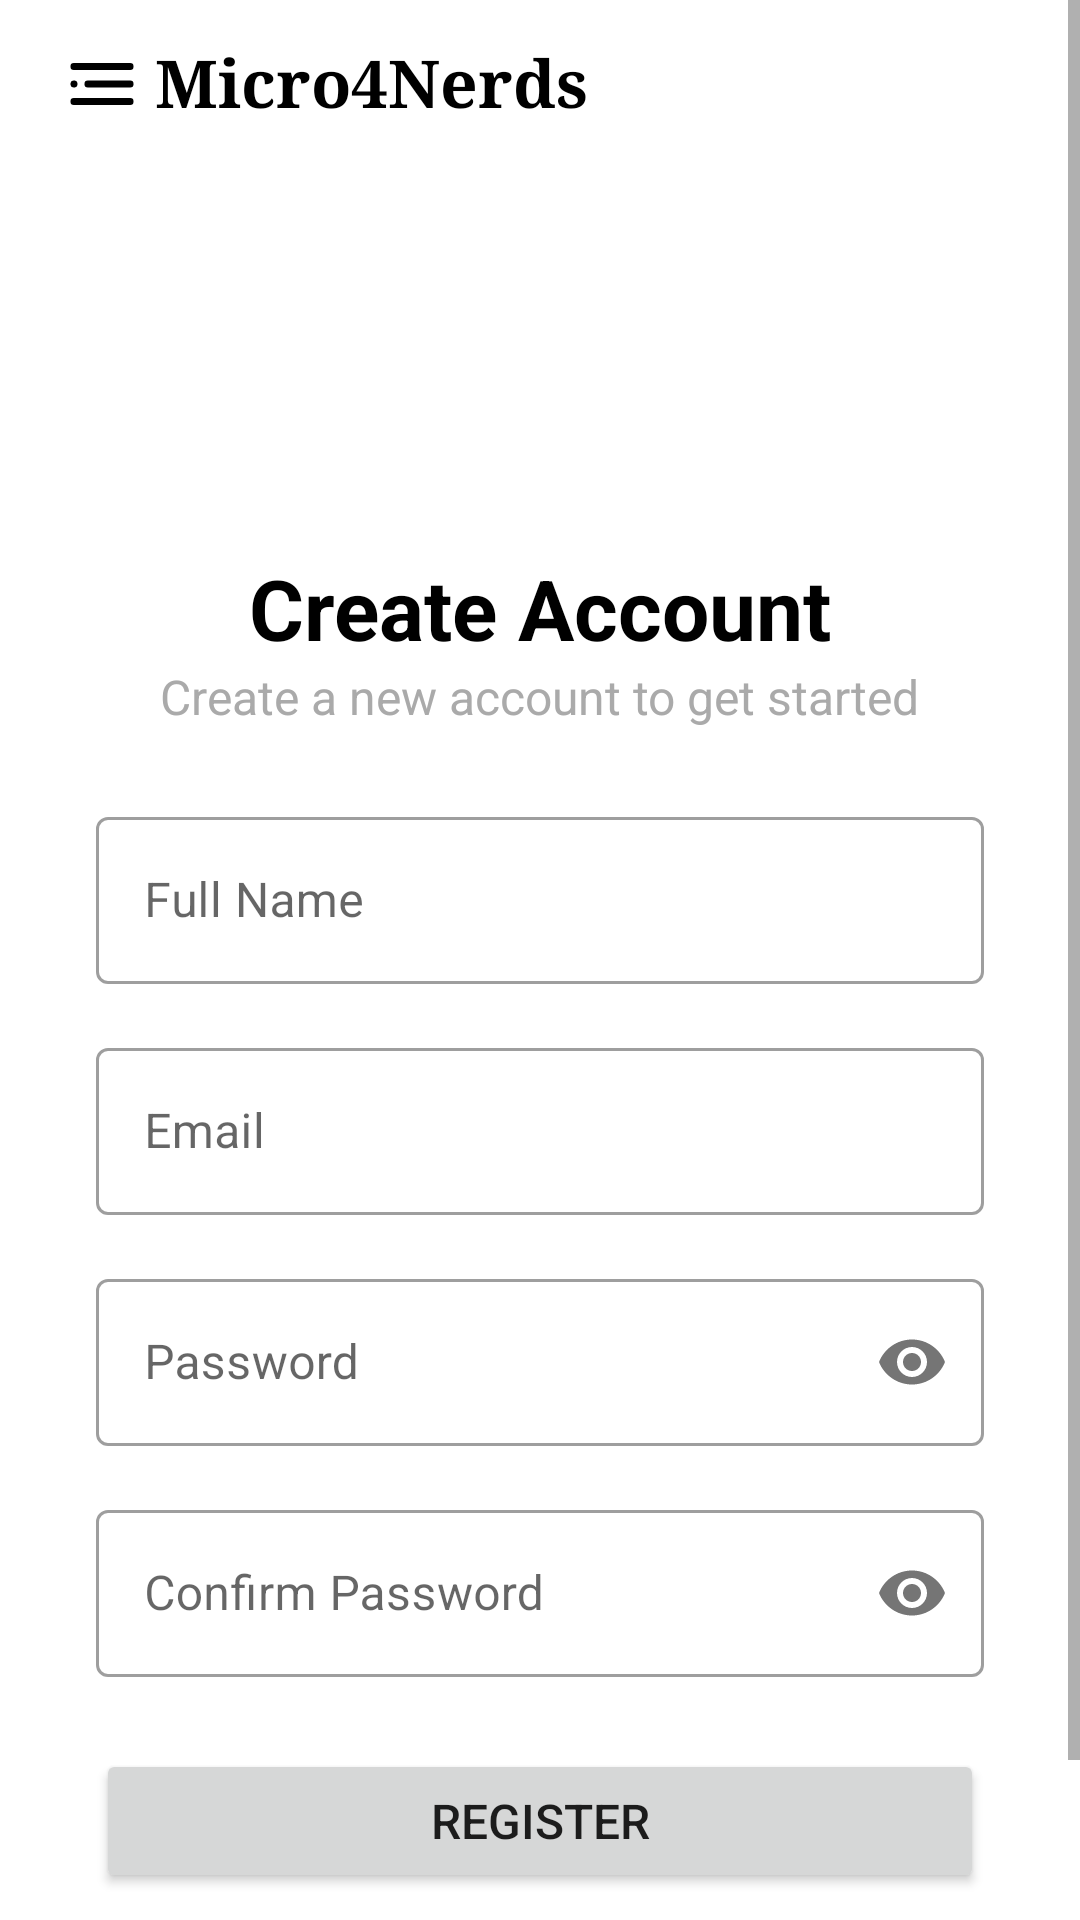

Named icons in this screenshot (1080 x 1920) and their bounding boxes, (x1, y1, x2, y2):
Menu: (70, 63, 134, 105)
